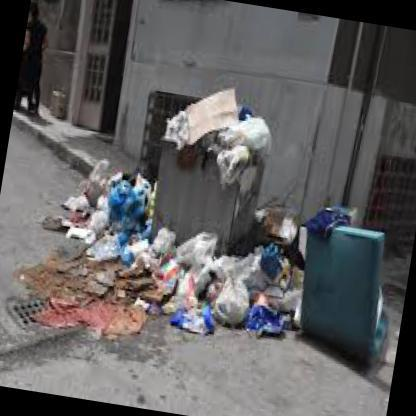Garbage: (140, 242, 309, 342), (77, 164, 159, 324), (63, 182, 154, 320), (255, 202, 311, 272)
